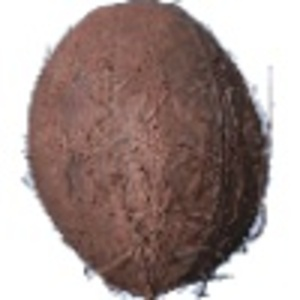coco: (23, 1, 274, 300)
